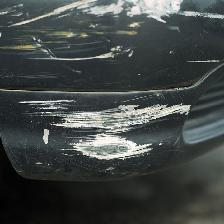bumper_scratch: (10, 4, 193, 184)
